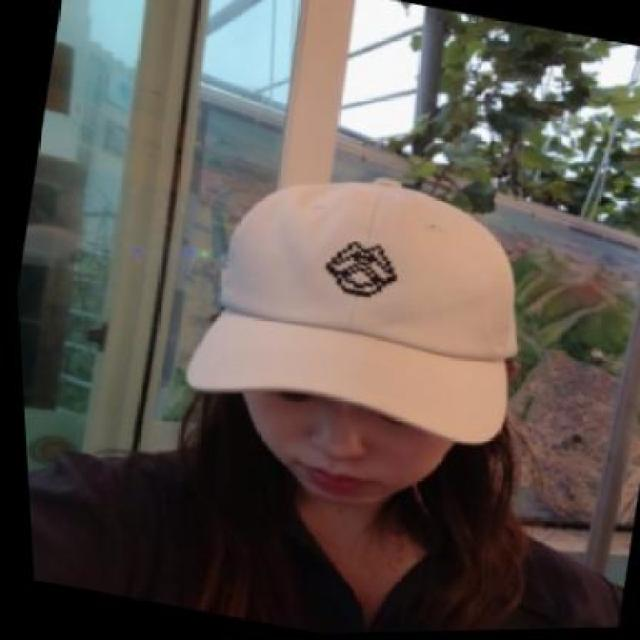hat: (156, 128, 562, 467)
